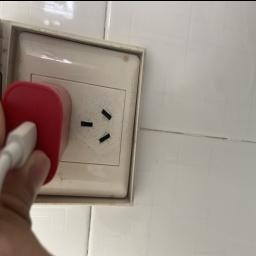outlet: (0, 29, 155, 209)
